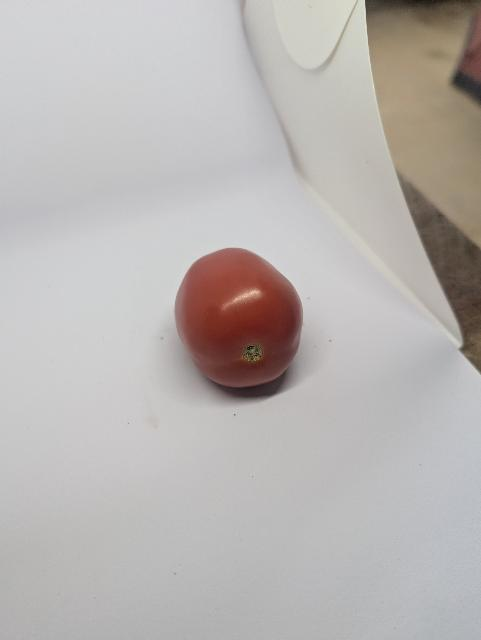red: (167, 243, 306, 409)
